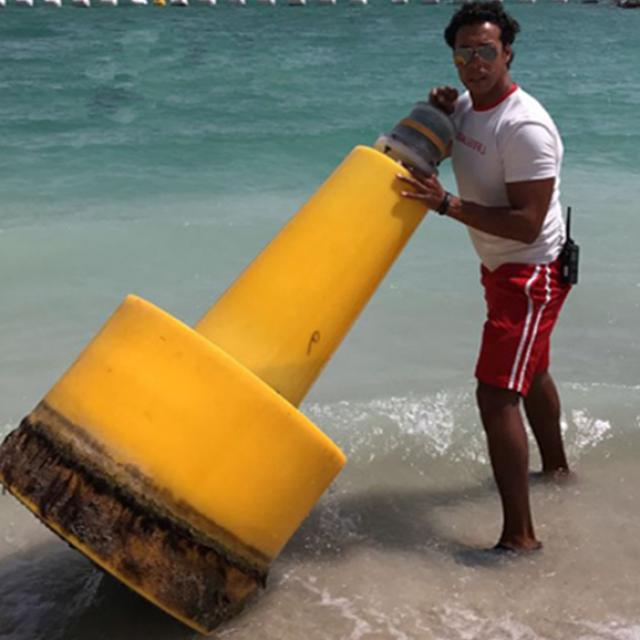buoy: (0, 91, 459, 638)
